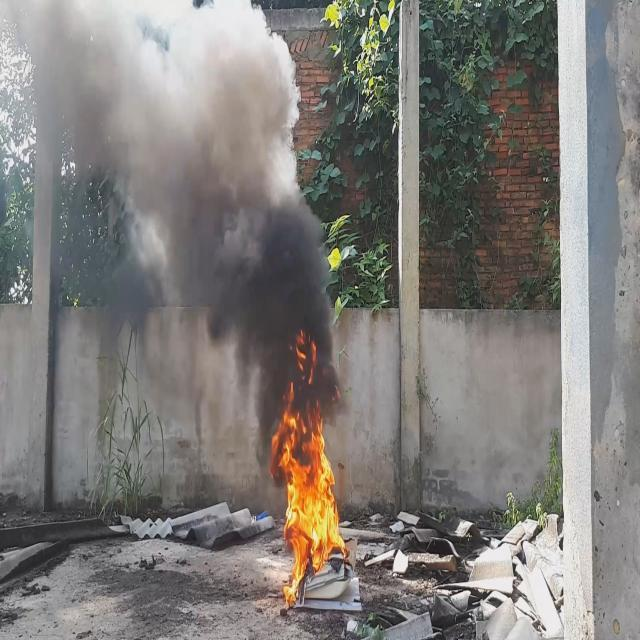Fire: (270, 382, 351, 613)
Smoke: (0, 0, 343, 485)
